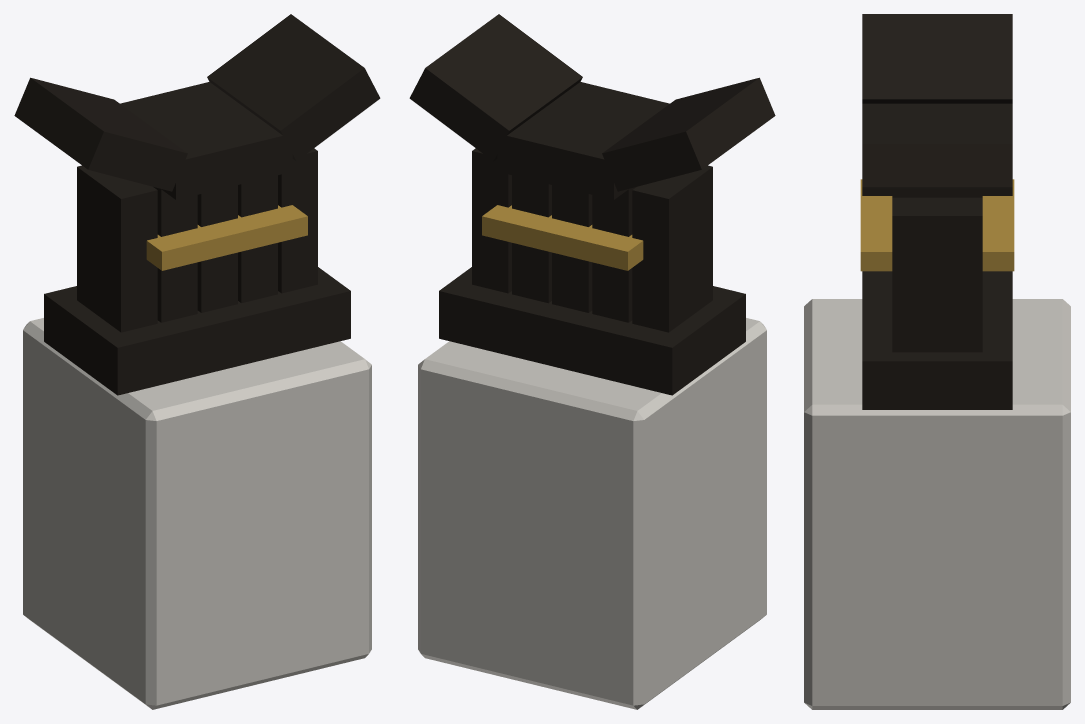
The model's file is sculpture-39.glb.
The picture shows the model from 3 angles, left to right: view 1: azimuth 30°, elevation 25°; view 2: azimuth 150°, elevation 25°; view 3: azimuth 270°, elevation 25°; orthographic projection. The views are drawn at different scales.
Parts seen in each view (by area): view 1: sculpture_39; view 2: sculpture_39; view 3: sculpture_39.
Part boxes in pixels (x1=…): sculpture_39: x1=14, y1=14, x2=380, y2=709; sculpture_39: x1=409, y1=14, x2=775, y2=709; sculpture_39: x1=804, y1=14, x2=1070, y2=709.
Bounding box in the file's own units: 0.2529 × 0.4679 × 0.1958.
